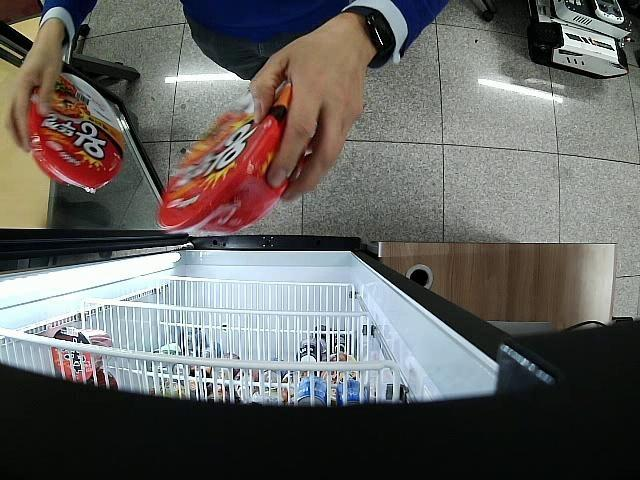10_wangTtukkeong: (157, 80, 300, 236), (29, 73, 125, 192)
